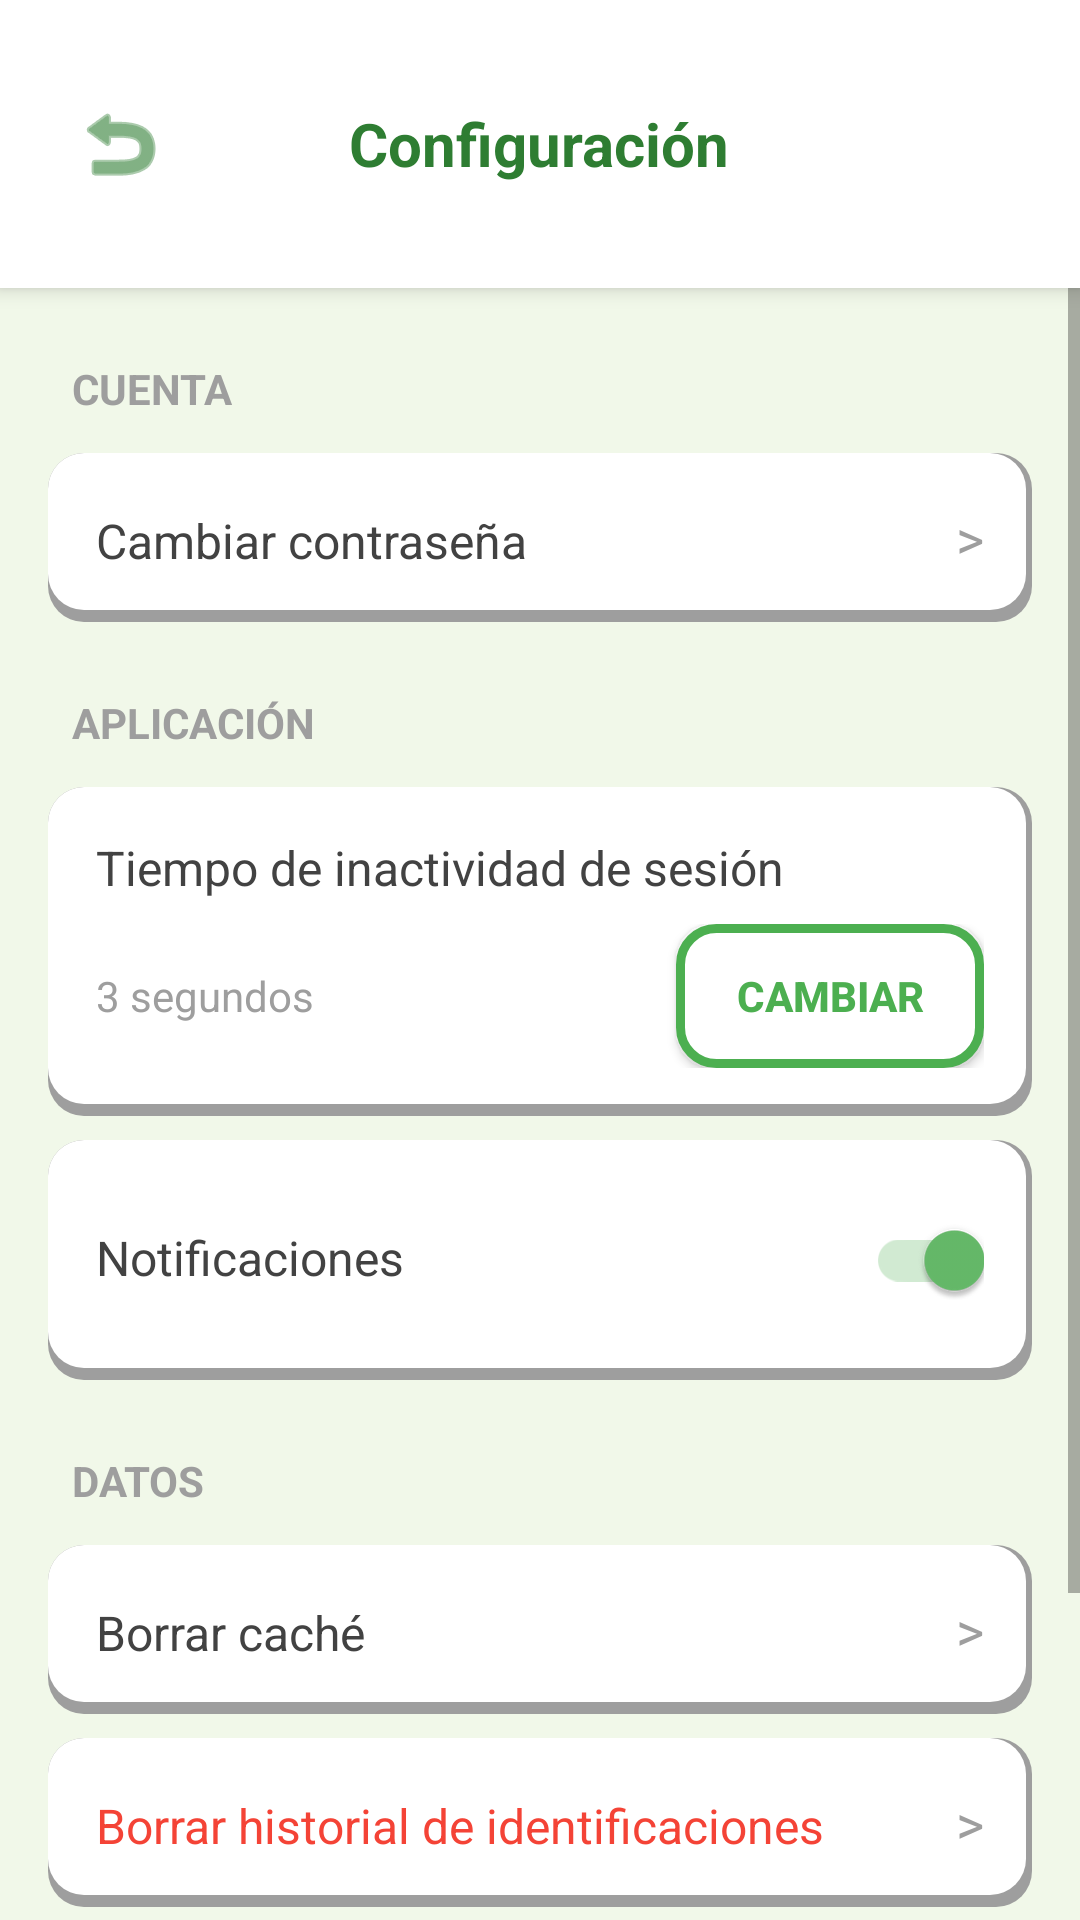

Locate icon controls on the screen. Image size 1080 × 1920, boxes as (x1, y1, x2, y2).
Regresar: (87, 113, 156, 176)
